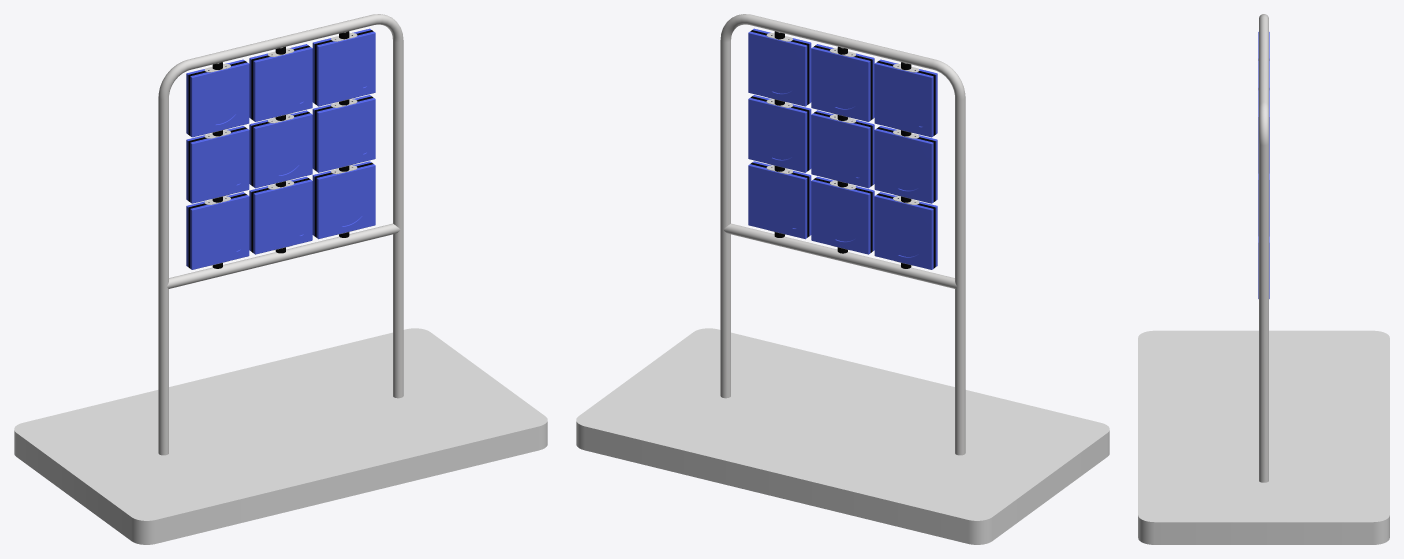
Rendered from tablica_integr_puzzle.fbx.
The picture shows the model from 3 angles, left to right: view 1: azimuth 30°, elevation 25°; view 2: azimuth 150°, elevation 25°; view 3: azimuth 270°, elevation 25°; orthographic projection. The views are drawn at different scales.
Parts seen in each view (by area): view 1: tabl_integr_puzzle_podstawa, tabl_integr_puzzle_krzyzyk, tabl_integr_puzzle_rama_01, tabl_integr_puzzle_kolko, tabl_integr_puzzle_detale_04, tabl_integr_puzzle_rama_02, tabl_integr_puzzle_detale_01; view 2: tabl_integr_puzzle_podstawa, tabl_integr_puzzle_kolko, tabl_integr_puzzle_rama_01, tabl_integr_puzzle_krzyzyk, tabl_integr_puzzle_detale_04, tabl_integr_puzzle_rama_02, tabl_integr_puzzle_detale_01; view 3: tabl_integr_puzzle_podstawa, tabl_integr_puzzle_rama_01.
Boxes of the visible parts, x1,y1,x2,y2 form: tabl_integr_puzzle_podstawa: (14, 328, 547, 544); tabl_integr_puzzle_krzyzyk: (186, 31, 375, 269); tabl_integr_puzzle_rama_01: (158, 14, 403, 455); tabl_integr_puzzle_kolko: (186, 28, 375, 266); tabl_integr_puzzle_detale_04: (188, 30, 373, 268); tabl_integr_puzzle_rama_02: (204, 33, 357, 265); tabl_integr_puzzle_detale_01: (212, 31, 349, 268); tabl_integr_puzzle_podstawa: (576, 328, 1109, 544); tabl_integr_puzzle_kolko: (748, 31, 937, 269); tabl_integr_puzzle_rama_01: (720, 14, 965, 455); tabl_integr_puzzle_krzyzyk: (748, 28, 937, 266); tabl_integr_puzzle_detale_04: (750, 30, 935, 268); tabl_integr_puzzle_rama_02: (766, 33, 919, 265); tabl_integr_puzzle_detale_01: (774, 31, 911, 268); tabl_integr_puzzle_podstawa: (1138, 330, 1389, 544); tabl_integr_puzzle_rama_01: (1259, 14, 1268, 482).
Size of the model in its own units: 180 by 171 by 100.
